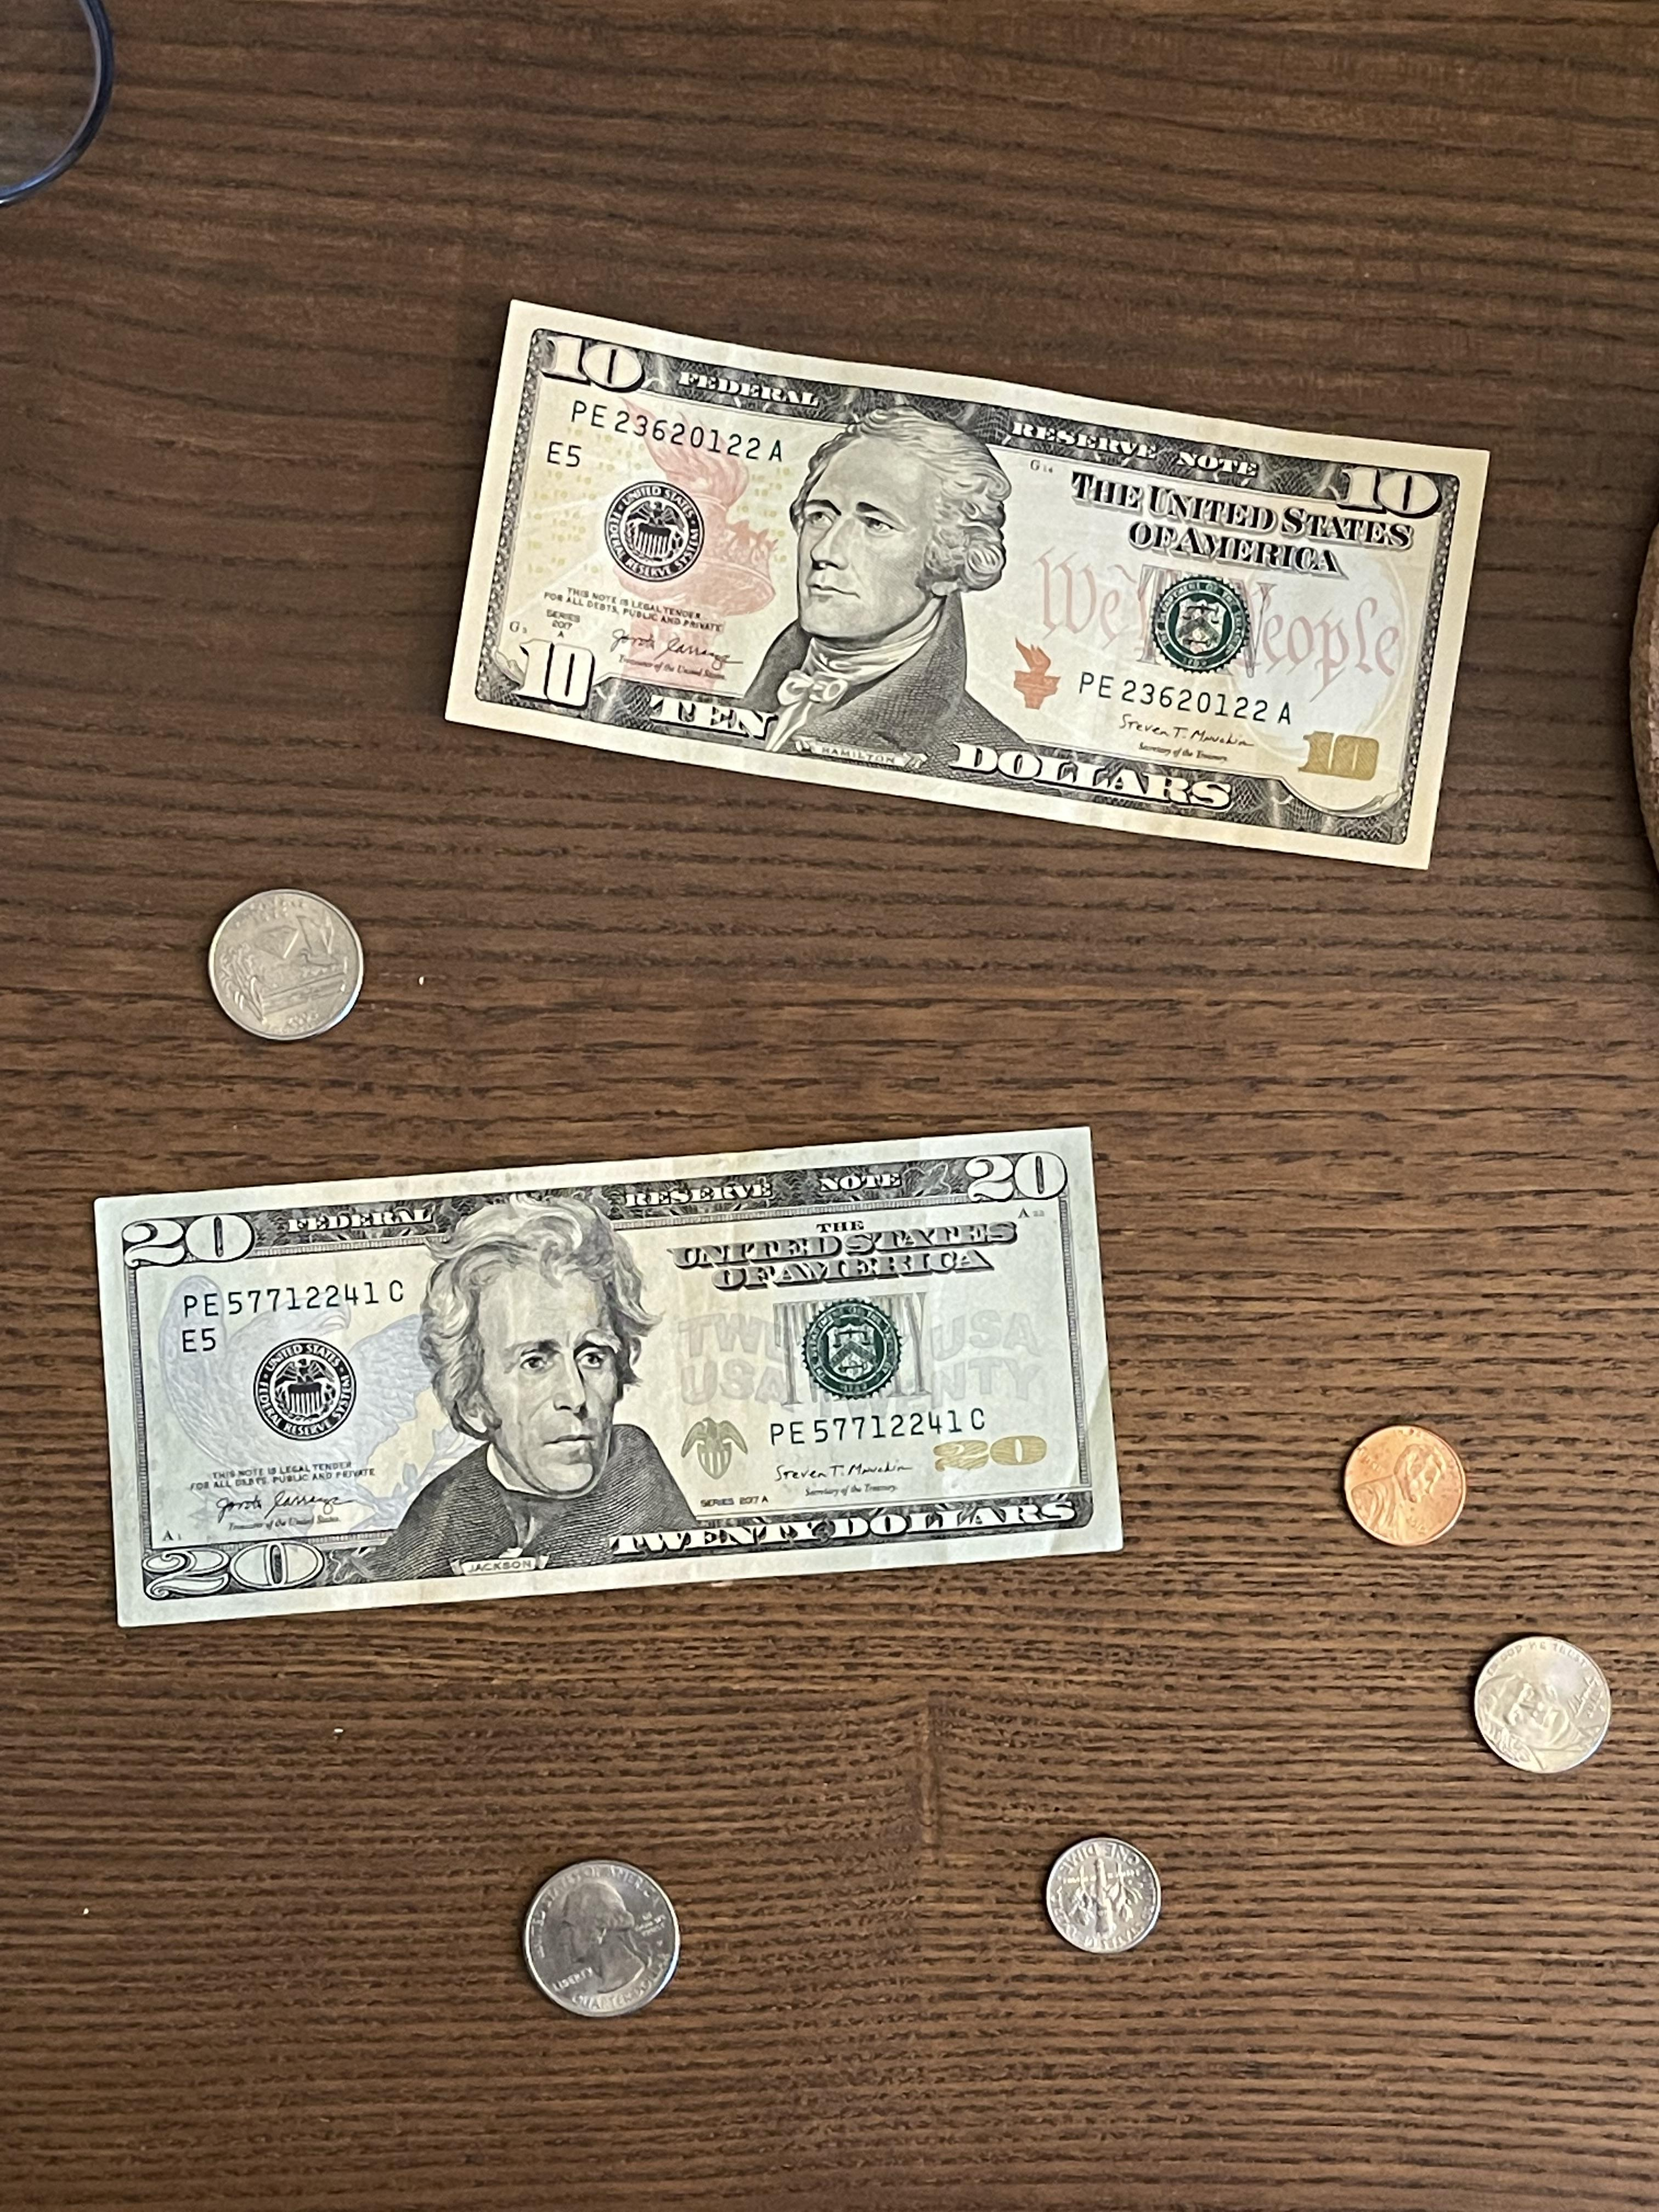Dime: (1044, 1836, 1162, 1956)
Nickel: (1473, 1634, 1610, 1775)
Penny: (1342, 1423, 1467, 1550)
Quarter: (521, 1858, 681, 2019), (206, 888, 364, 1043)
TenBill: (437, 294, 1492, 873)
TwentyBill: (92, 1125, 1126, 1630)
